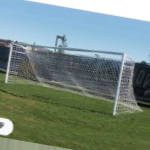goals: (3, 41, 145, 117)
